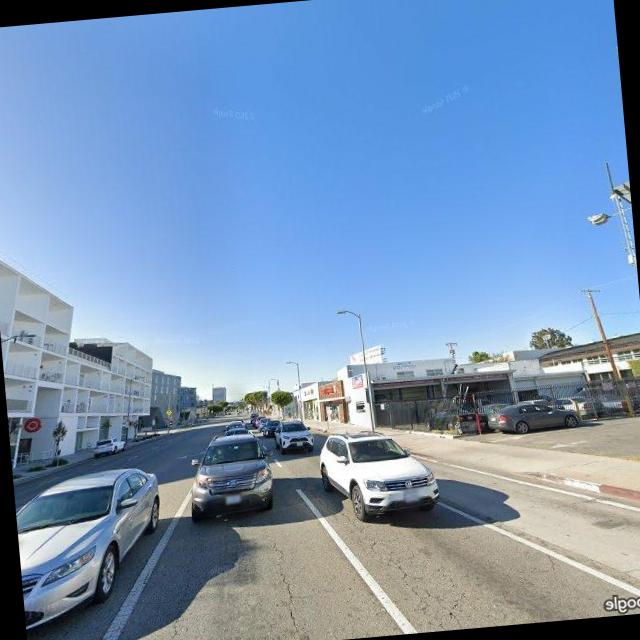crack: (355, 512, 484, 636)
pothole: (145, 538, 207, 640), (266, 533, 306, 640)
